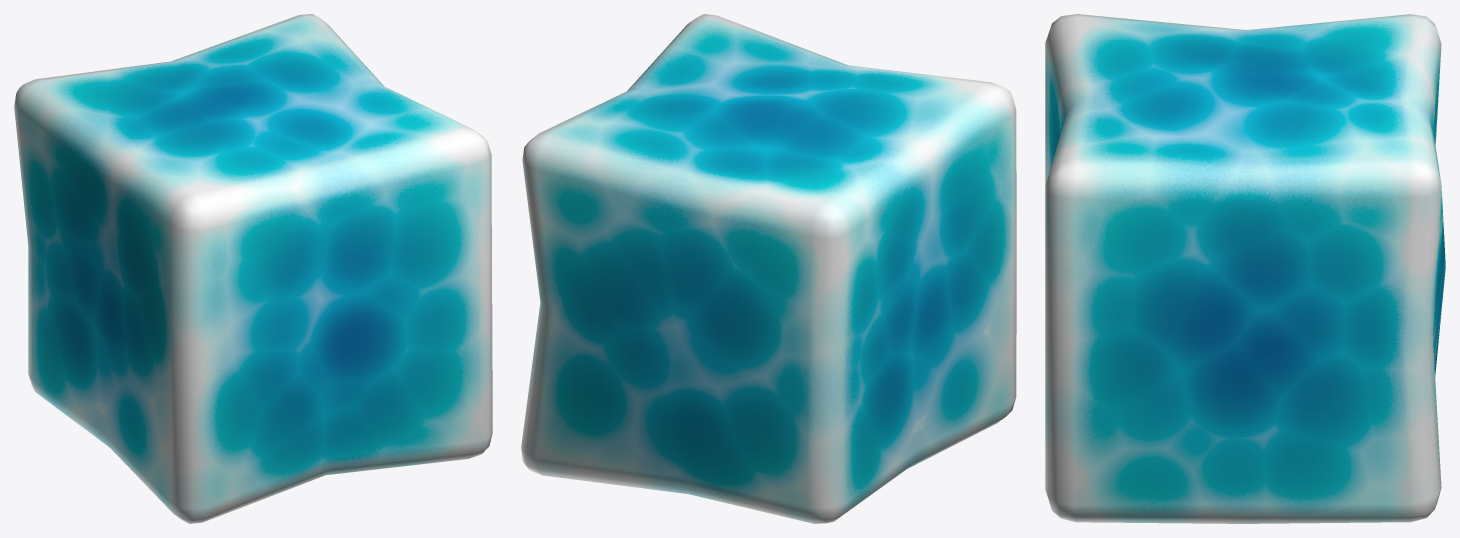
The model's file is IceCube.fbx.
The picture shows the model from 3 angles, left to right: view 1: azimuth 30°, elevation 25°; view 2: azimuth 150°, elevation 25°; view 3: azimuth 270°, elevation 25°; orthographic projection. The views are drawn at different scales.
Parts seen in each view (by area): view 1: IceCube_Baked; view 2: IceCube_Baked; view 3: IceCube_Baked.
Boxes of the visible parts, <box> form: IceCube_Baked: <box>14,14,492,523</box>; IceCube_Baked: <box>521,14,1016,523</box>; IceCube_Baked: <box>1045,14,1445,523</box>.
Bounding box in the file's own units: 198 × 200 × 198.
Materials: 1 (1 with a texture image).
